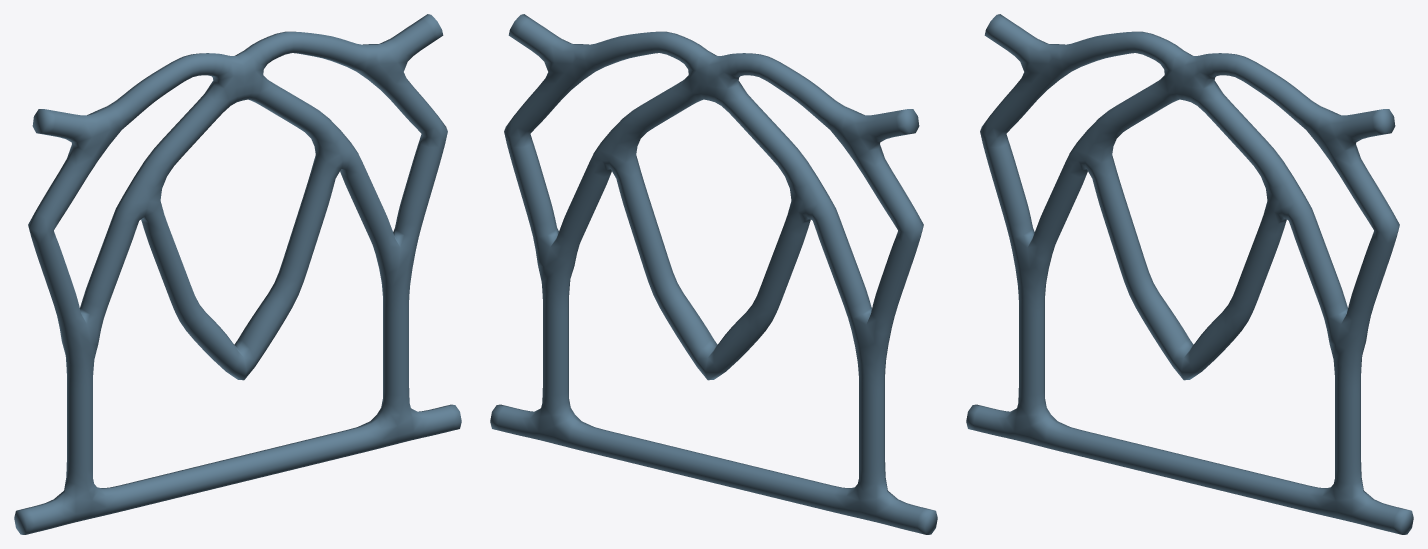
Rendered from MetalDecor.fbx.
The picture shows the model from 3 angles, left to right: view 1: azimuth 30°, elevation 25°; view 2: azimuth 150°, elevation 25°; view 3: azimuth 330°, elevation 25°; orthographic projection.
Parts seen in each view (by area): view 1: BarsCurve; view 2: BarsCurve; view 3: BarsCurve.
Part boxes in pixels (x1=…): BarsCurve: x1=14, y1=14, x2=461, y2=534; BarsCurve: x1=490, y1=14, x2=937, y2=534; BarsCurve: x1=966, y1=14, x2=1413, y2=534.
Bounding box in the file's own units: 2.2 × 2.12 × 0.1524.
